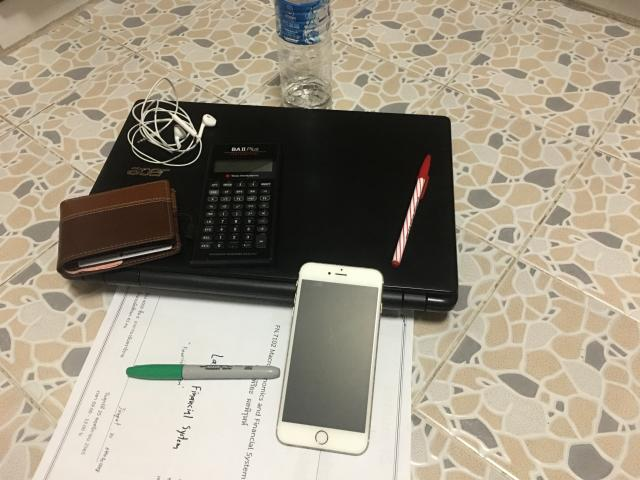Mobile phone: (278, 262, 384, 455)
Pen: (391, 155, 431, 268), (126, 364, 280, 380)
Wallet: (58, 180, 181, 278)
bottle: (275, 0, 331, 109)
paper: (35, 288, 412, 479)
wire: (128, 78, 216, 166)
